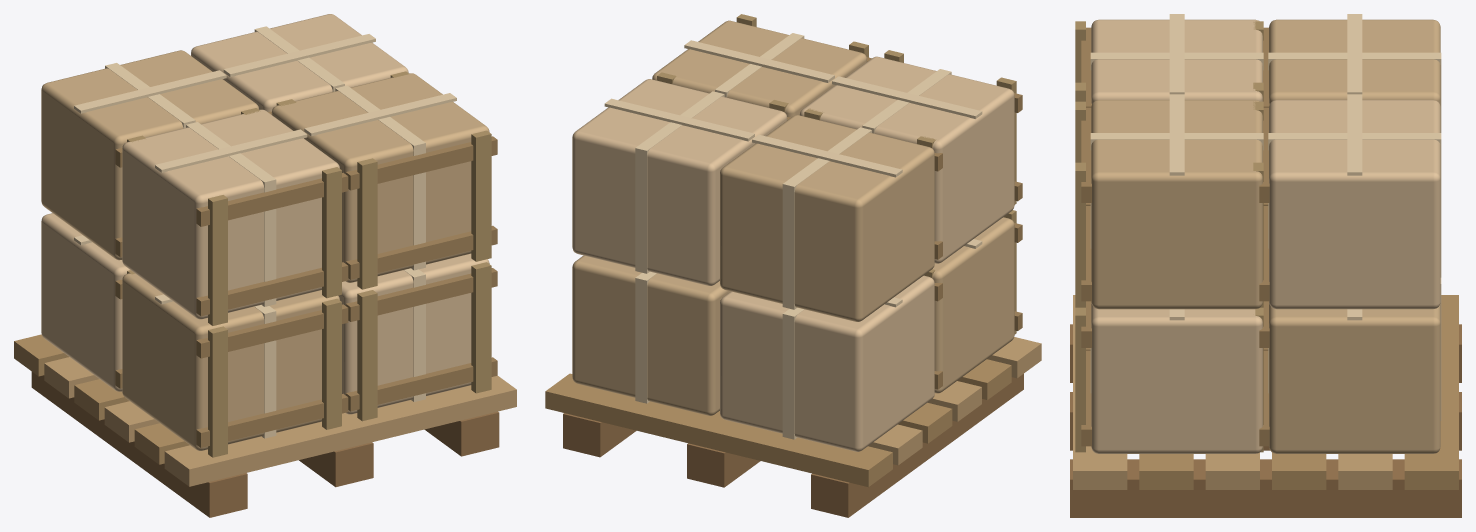
The model's file is pallet-2-blue.glb.
The picture shows the model from 3 angles, left to right: view 1: azimuth 30°, elevation 25°; view 2: azimuth 150°, elevation 25°; view 3: azimuth 270°, elevation 25°; orthographic projection. The views are drawn at different scales.
Visible parts, largest first — view 1: static-6--57, static-6--10, static-6--25, static-6--40, static-3--5, static-3--9, static-6--54, static-6--47, static-3--7; view 2: static-6--10, static-6--57, static-3--7, static-6--54, static-3--9, static-6--47, static-3--5, static-6--25, static-6--40; view 3: static-6--10, static-6--57, static-3--9, static-3--7, static-3--5, static-6--40, static-6--54, static-6--47, static-6--25.
Boxes of the visible parts, bbox=[...] form: static-6--57: bbox=[41, 14, 489, 414]; static-6--10: bbox=[41, 50, 489, 450]; static-6--25: bbox=[127, 71, 491, 457]; static-6--40: bbox=[115, 111, 497, 447]; static-3--5: bbox=[44, 357, 516, 486]; static-3--9: bbox=[31, 371, 499, 517]; static-6--54: bbox=[105, 26, 425, 438]; static-6--47: bbox=[74, 34, 456, 304]; static-3--7: bbox=[14, 334, 189, 464]; static-6--10: bbox=[572, 20, 1014, 415]; static-6--57: bbox=[572, 56, 1014, 451]; static-3--7: bbox=[545, 359, 1011, 487]; static-6--54: bbox=[635, 33, 951, 439]; static-3--9: bbox=[563, 374, 1023, 517]; static-6--47: bbox=[604, 40, 982, 307]; static-3--5: bbox=[868, 337, 1041, 465]; static-6--25: bbox=[657, 14, 1016, 334]; static-6--40: bbox=[787, 57, 1022, 389]; static-6--10: bbox=[1091, 19, 1440, 453]; static-6--57: bbox=[1091, 19, 1440, 453]; static-3--9: bbox=[1070, 324, 1461, 517]; static-3--7: bbox=[1139, 295, 1458, 489]; static-3--5: bbox=[1073, 295, 1392, 489]; static-6--40: bbox=[1081, 27, 1269, 446]; static-6--54: bbox=[1090, 52, 1441, 420]; static-6--47: bbox=[1169, 14, 1362, 320]; static-6--25: bbox=[1075, 21, 1263, 452].
Bounding box in the file's own units: 1.38 × 1.27 × 1.3.
